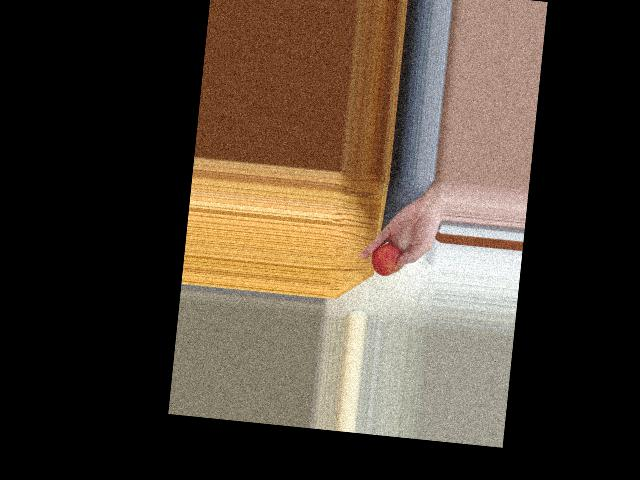apple: (370, 238, 408, 278)
